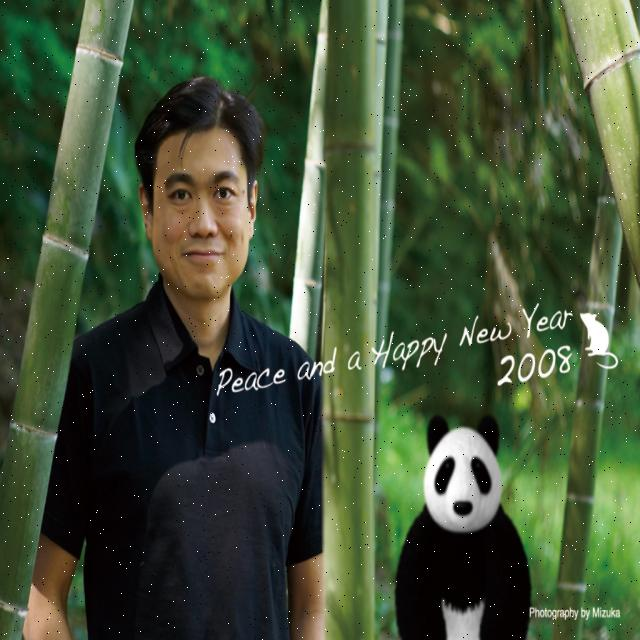panda: (394, 411, 533, 639)
